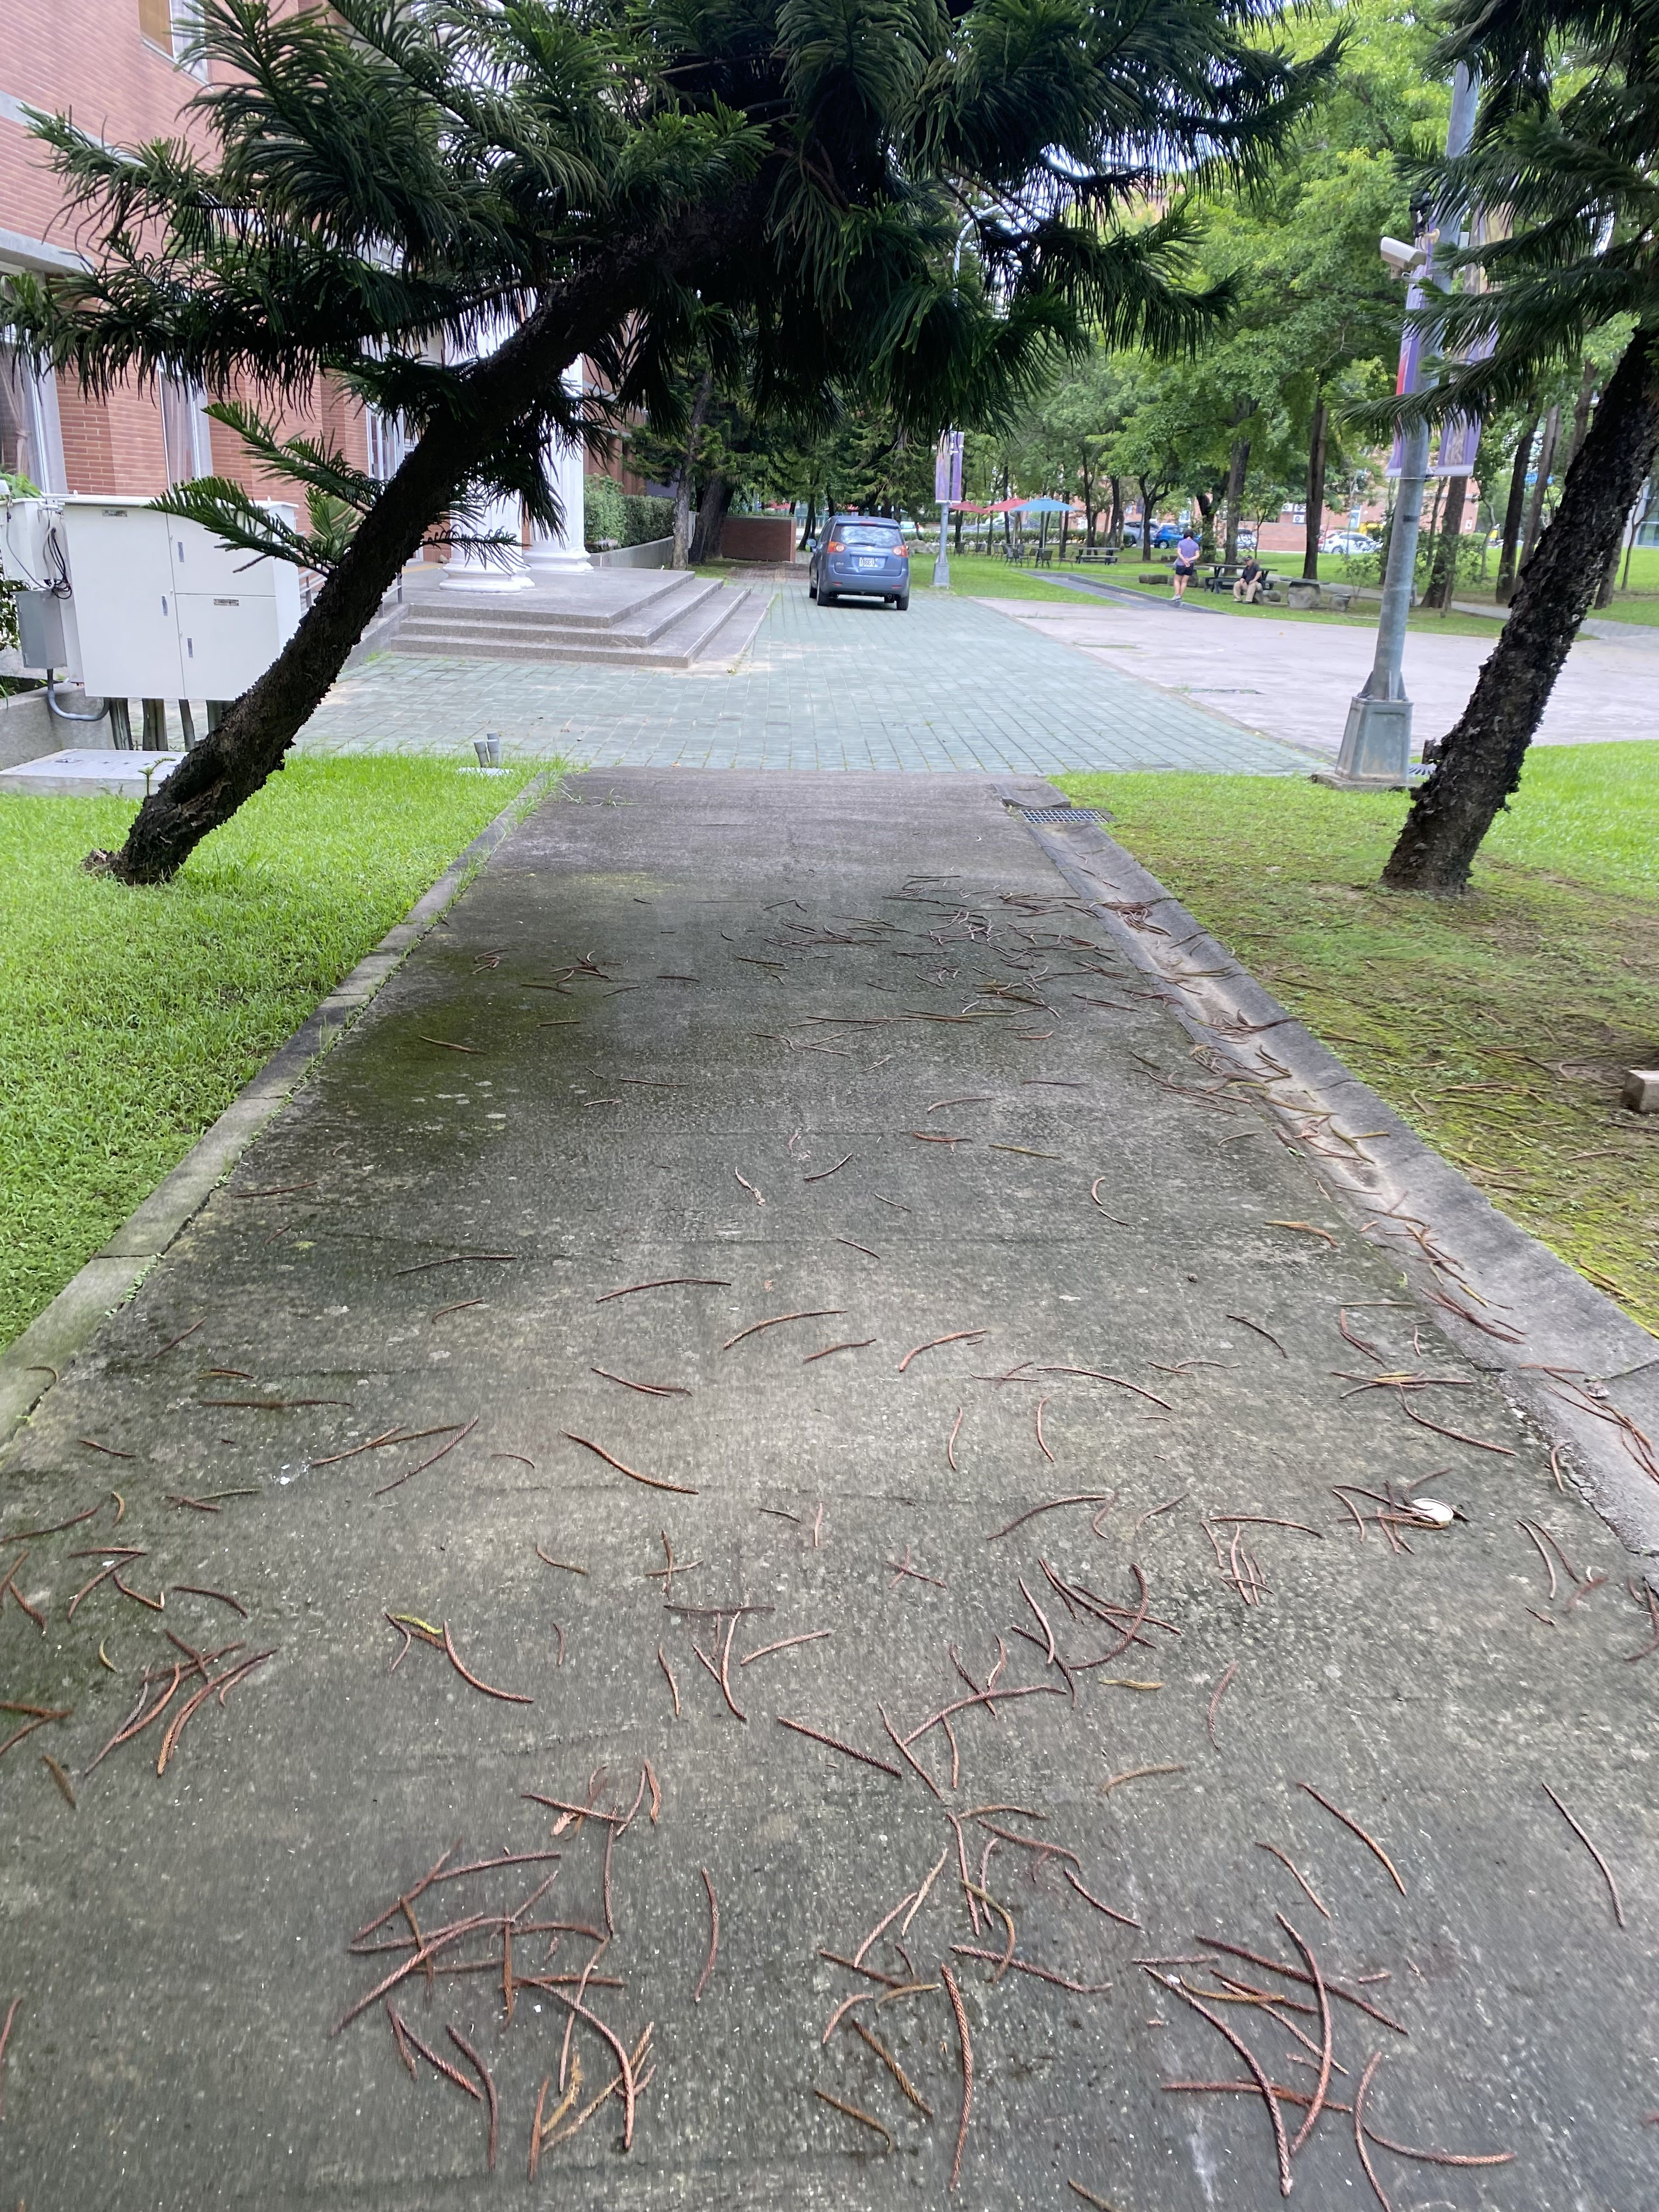0: (42, 526, 1351, 874)
sidewalk: (5, 732, 1659, 2205)
